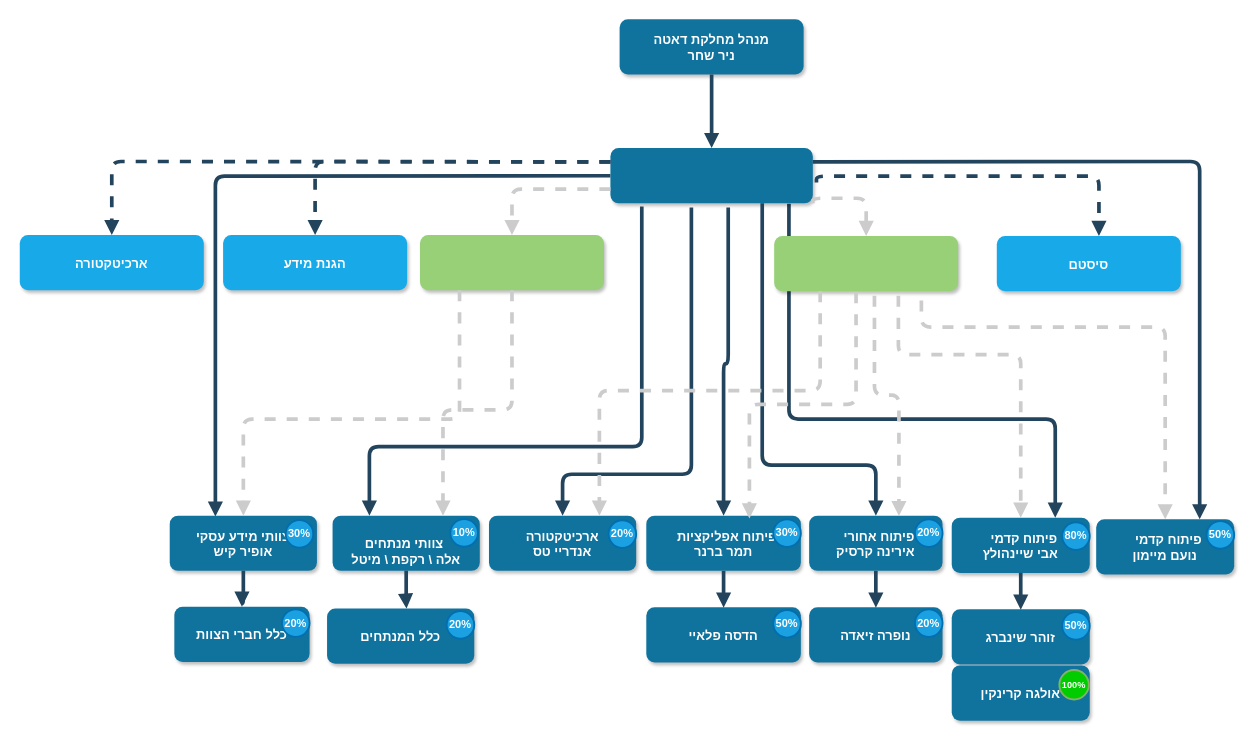
Some shapes in this 1255 by 743 pixel diagram are drawn without their labels. The centre of each missing label's shape, as x and y in pixels:
מנהל פיתוח איתי ברן: pixel 866 264
מנהל תחום אנליטיקה יואב שור: pixel 512 263
מנהלת פתרון טאבלו ענת אחימס: pixel 712 176
